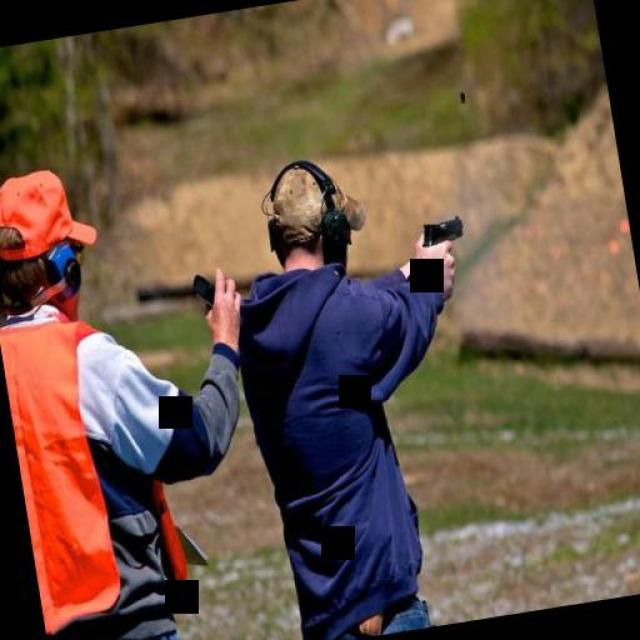gun: (413, 211, 468, 265)
